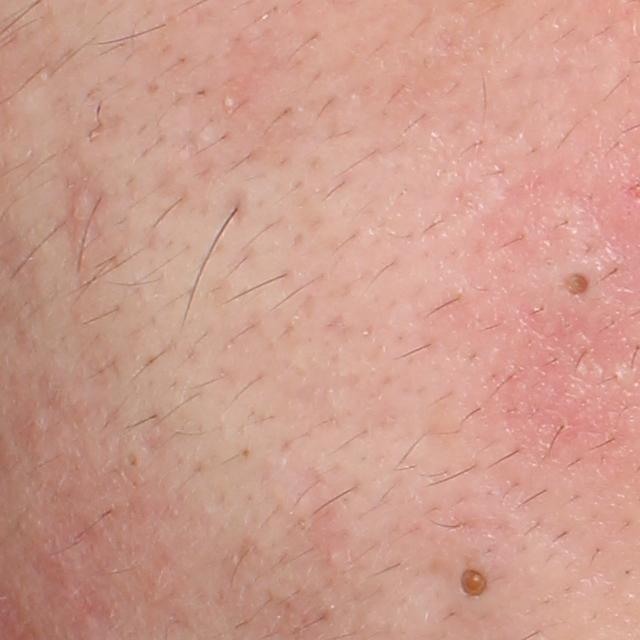comedo: (554, 268, 598, 312), (456, 560, 493, 603), (123, 449, 141, 471)
